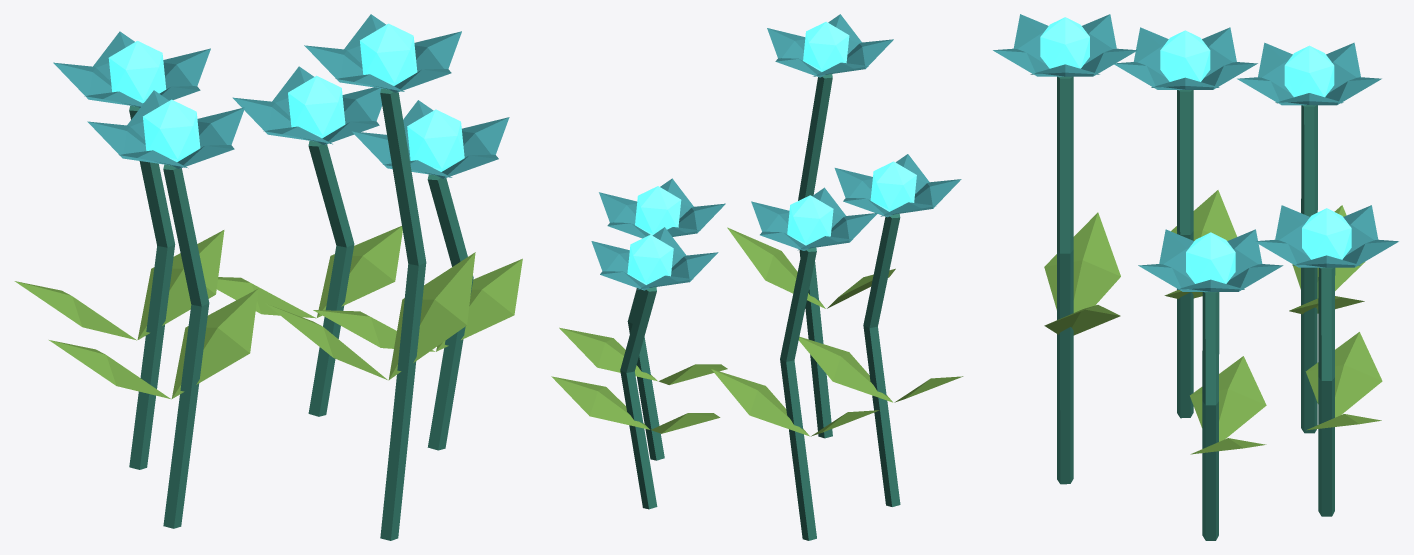
File: 06_Flowers_Starlight.glb
3 renders of one model, left to right at view 1: azimuth 30°, elevation 25°; view 2: azimuth 150°, elevation 25°; view 3: azimuth 270°, elevation 25°, orthographic. The views are drawn at different scales.
Parts seen in each view (by area): view 1: 06_Flowers_Starlight_Body; view 2: 06_Flowers_Starlight_Body; view 3: 06_Flowers_Starlight_Body.
Boxes of the visible parts, box(x1,y1,x2,y2) form: 06_Flowers_Starlight_Body: box(14, 14, 522, 540); 06_Flowers_Starlight_Body: box(551, 14, 963, 540); 06_Flowers_Starlight_Body: box(993, 14, 1398, 540).
Size of the model in its own units: 0.6969 by 0.7017 by 0.5577.
